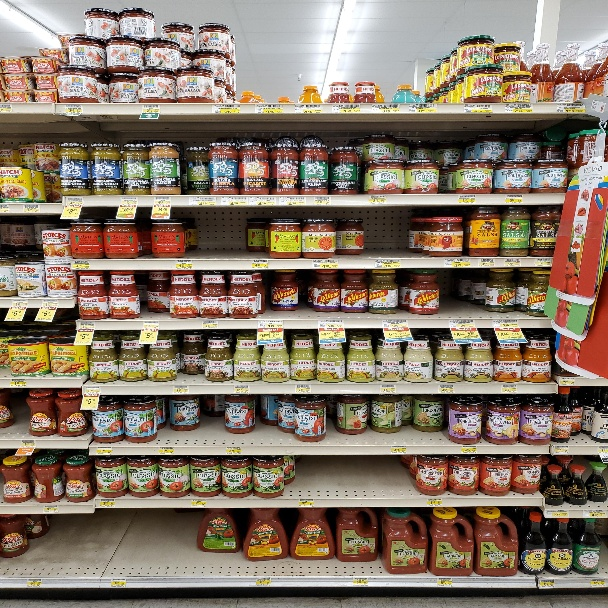All PRICE TAGS: (557, 103, 585, 112), (280, 196, 305, 206), (382, 319, 408, 328), (444, 258, 470, 267), (312, 259, 338, 268), (190, 196, 216, 205), (221, 196, 247, 205), (250, 196, 276, 205), (332, 104, 361, 112), (463, 104, 492, 112), (319, 319, 344, 328), (372, 104, 400, 112), (504, 104, 532, 112), (212, 104, 239, 112), (256, 104, 283, 112), (295, 104, 322, 112), (409, 104, 436, 112), (493, 319, 519, 327), (449, 319, 475, 327), (375, 259, 401, 267), (583, 510, 607, 518), (368, 195, 386, 205), (258, 320, 283, 327), (313, 196, 331, 205), (505, 194, 523, 203), (549, 510, 569, 518), (352, 577, 369, 586), (251, 259, 268, 268), (120, 197, 139, 205), (153, 197, 172, 205), (457, 195, 476, 203), (437, 577, 453, 586), (110, 578, 126, 587), (460, 445, 478, 453), (295, 384, 311, 393), (83, 386, 101, 394), (41, 300, 59, 308), (22, 205, 40, 213), (142, 104, 160, 112), (72, 261, 90, 269), (390, 445, 407, 453), (225, 446, 242, 454), (500, 384, 517, 392), (438, 384, 455, 392), (379, 384, 396, 392), (201, 320, 218, 328), (504, 258, 521, 266), (478, 258, 495, 266), (10, 379, 27, 387), (176, 260, 193, 268), (93, 447, 112, 454), (64, 198, 83, 205), (426, 497, 442, 505), (98, 499, 114, 507), (233, 385, 249, 393), (173, 386, 189, 394), (79, 322, 95, 330), (554, 446, 570, 454), (26, 579, 42, 587), (43, 505, 59, 513), (20, 440, 36, 448), (12, 299, 28, 307), (157, 446, 175, 453), (64, 105, 82, 112), (298, 498, 313, 506), (535, 258, 550, 266), (256, 578, 271, 586), (0, 104, 13, 113), (190, 499, 206, 506), (143, 321, 159, 328), (561, 378, 575, 386), (591, 579, 605, 587), (283, 446, 298, 453), (540, 580, 555, 587), (597, 446, 608, 454), (0, 204, 9, 213)
